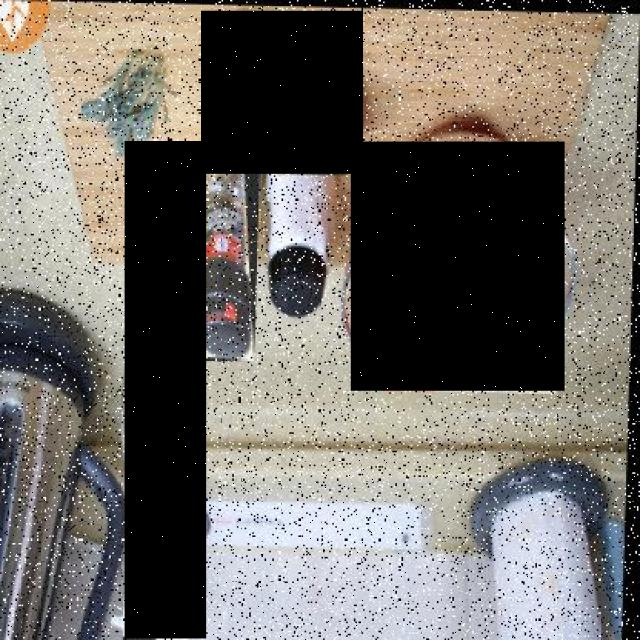Egg: (200, 11, 363, 174)
Olive_Oil: (125, 140, 206, 638)
Tomato: (350, 142, 564, 392)
